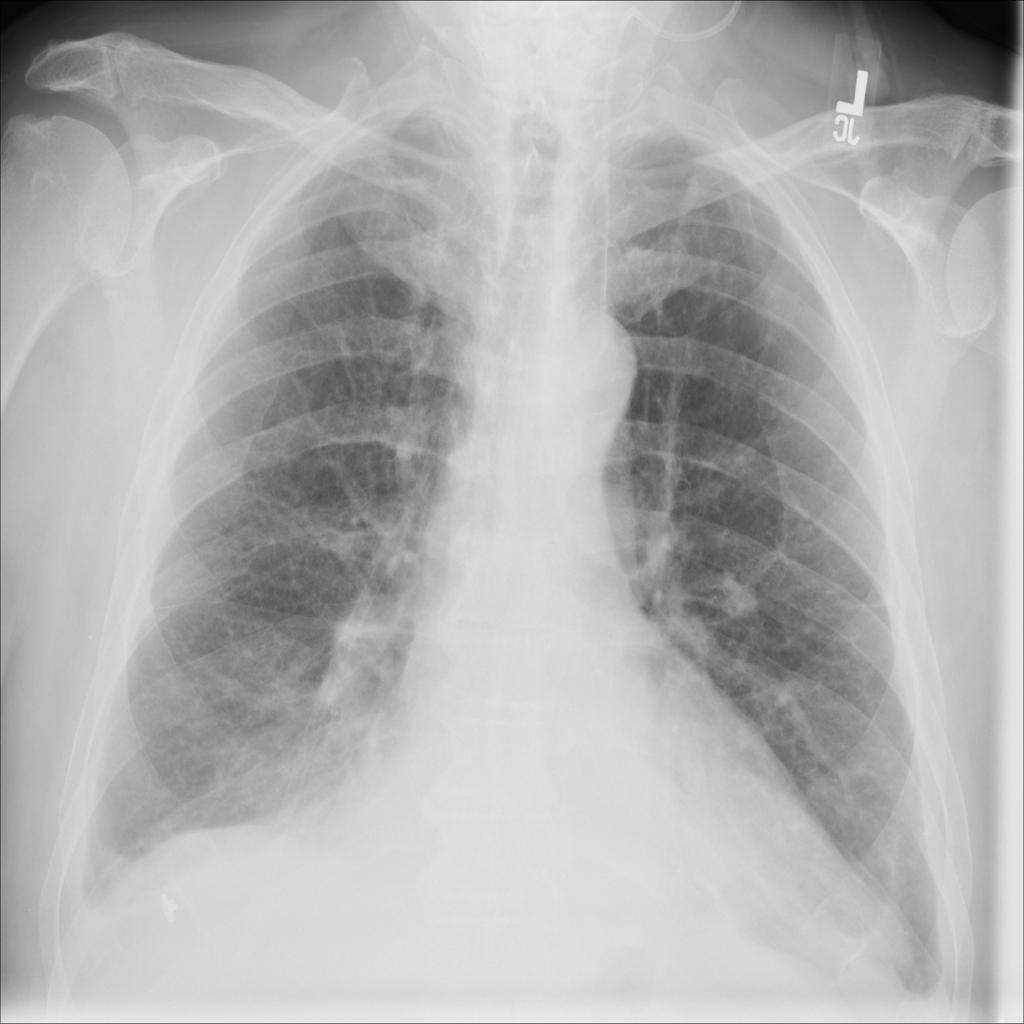nodule: (708, 558, 773, 636)
